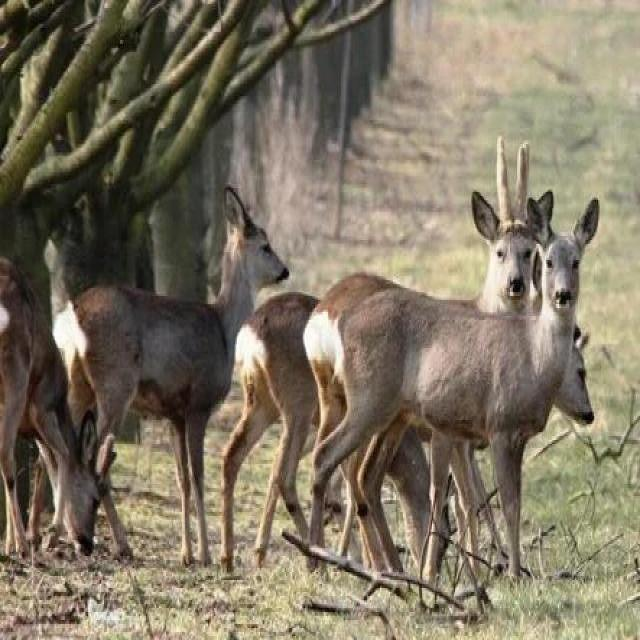deer: (58, 165, 324, 506), (363, 214, 640, 522)
